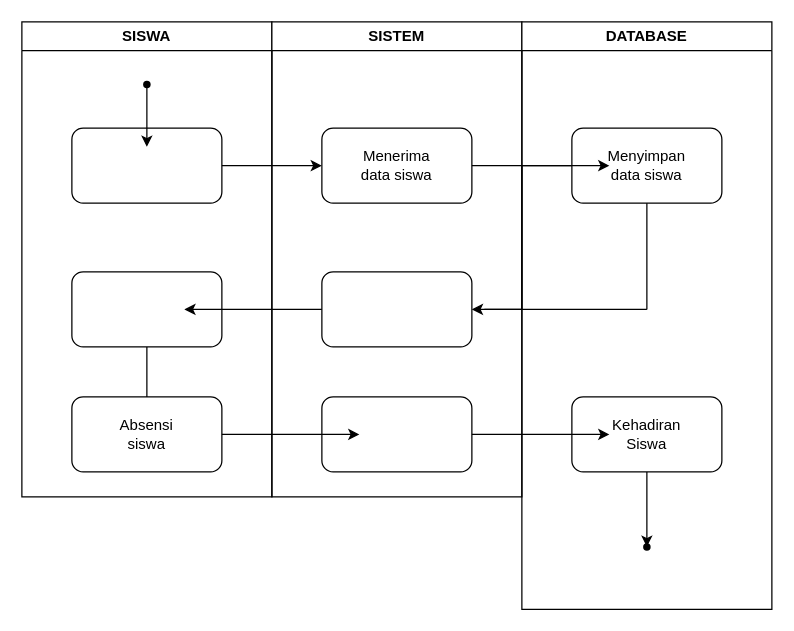
This 794x631 diagram has some shape labels left out. Each missing label, with the centre of its shape:
Absen: the point at 396,434
Entri data: the point at 146,165
Mencetak id card siswa: the point at 396,309
Menerima id card siswa: the point at 146,309
